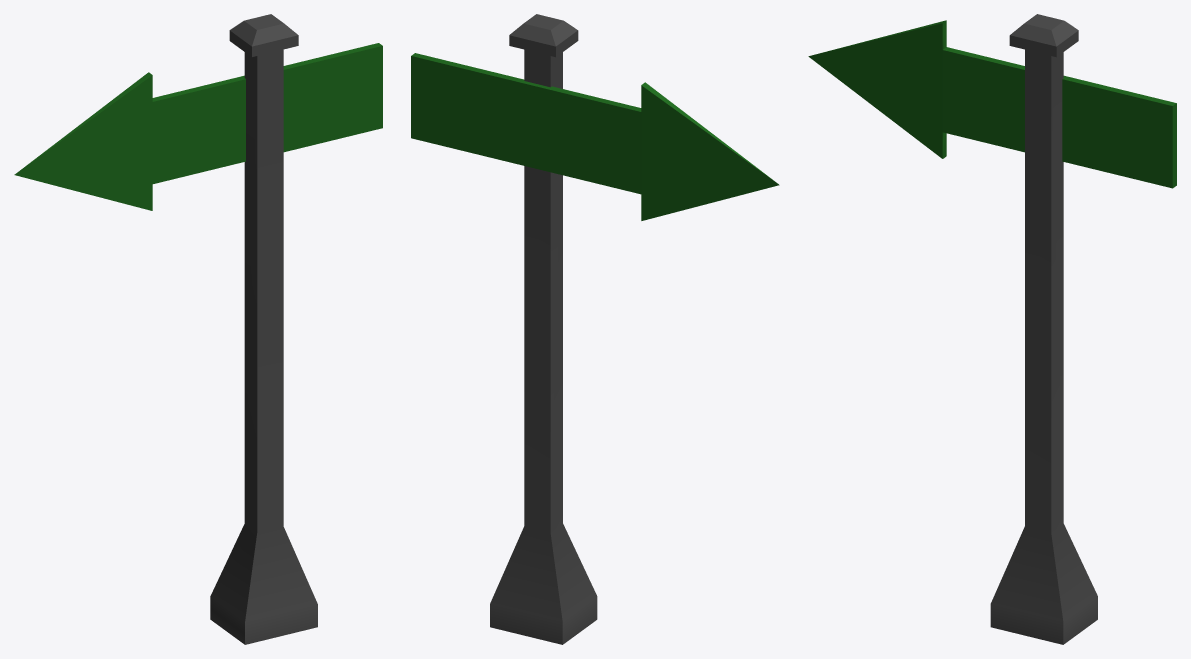
Rendered from sign board.fbx.
3 renders of one model, left to right at view 1: azimuth 30°, elevation 25°; view 2: azimuth 150°, elevation 25°; view 3: azimuth 330°, elevation 25°, orthographic.
Visible parts, largest first — view 1: sign_board; view 2: sign_board; view 3: sign_board.
Part boxes in pixels (left/top/right/bottom): sign_board: left=14, top=14, right=382, bottom=644; sign_board: left=411, top=14, right=779, bottom=644; sign_board: left=808, top=14, right=1176, bottom=644.
Size of the model in its own units: 150 by 235 by 24.59.
